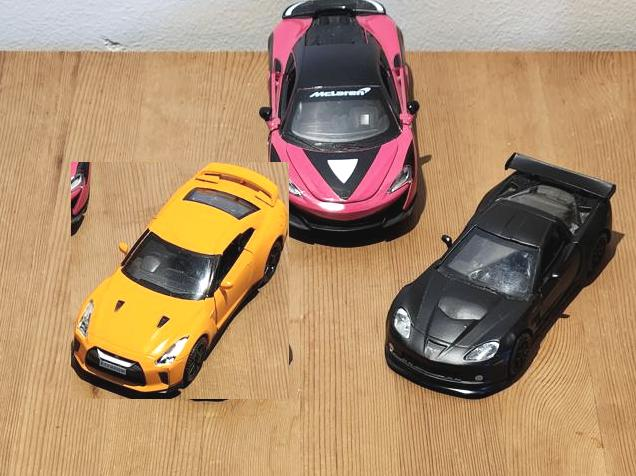toy-car: (384, 151, 617, 400), (71, 162, 289, 399), (259, 0, 418, 246)
